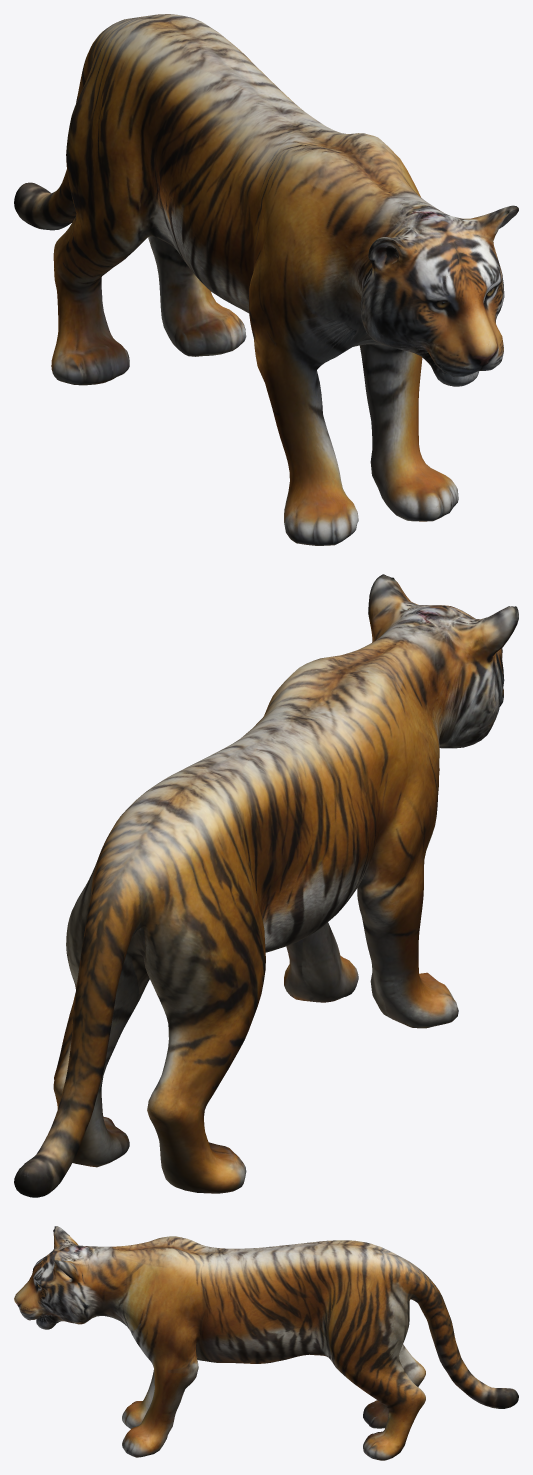
The model's file is a_realistic_tiger__0118134023_texture.fbx.
The picture shows the model from 3 angles, top to bottom: view 1: azimuth 30°, elevation 25°; view 2: azimuth 150°, elevation 25°; view 3: azimuth 270°, elevation 25°; orthographic projection. The views are drawn at different scales.
Visible parts, largest first — view 1: Mesh1_Mesh1.007; view 2: Mesh1_Mesh1.007; view 3: Mesh1_Mesh1.007.
Part boxes in pixels (<box>): Mesh1_Mesh1.007: <box>14,14,518,545</box>; Mesh1_Mesh1.007: <box>14,574,518,1197</box>; Mesh1_Mesh1.007: <box>14,1226,518,1460</box>.
Size of the model in its own units: 46.59 by 85.2 by 200.
Materials: 1 (1 with a texture image).
